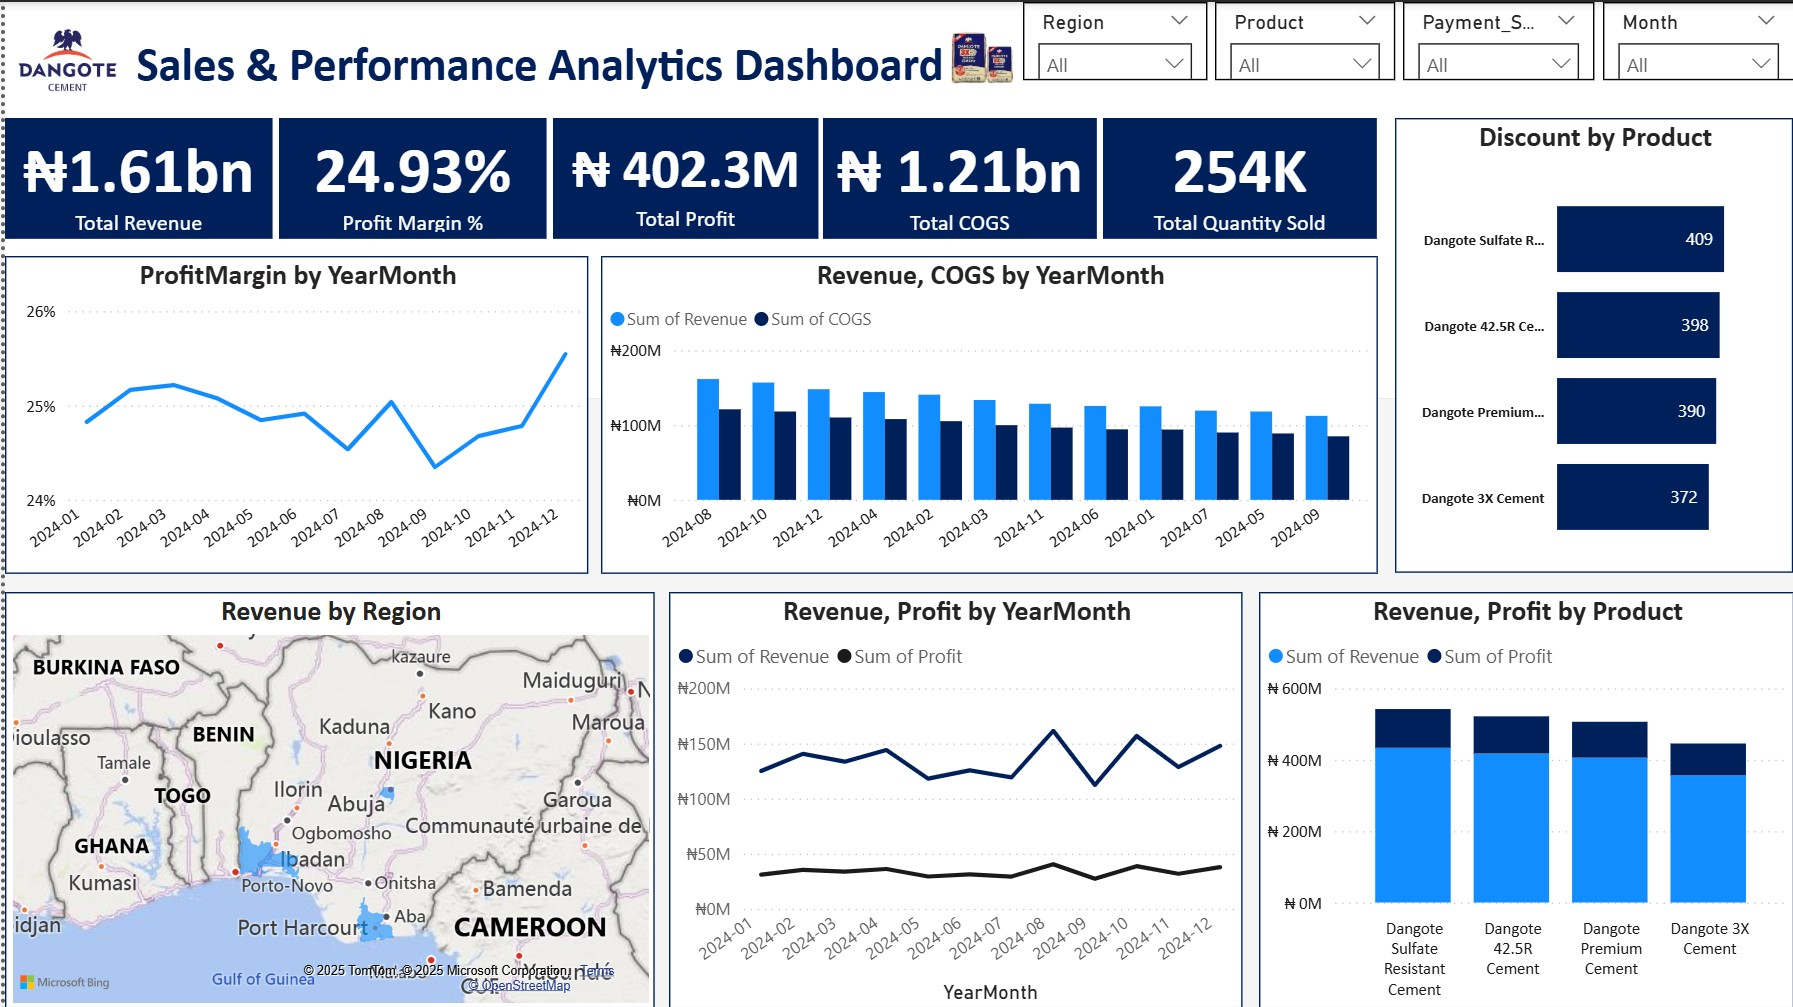

The page's visual inventory and layout, read from the dashboard file:
{"tool":"powerbi","page":{"name":"Page 1","canvas":[1280,720],"ordinal":0},"visuals":[{"type":"shape","box":[0,0,1280.2,283.7],"z":0},{"type":"lineChart","title":"Revenue, Profit by YearMonth","fields":{"Category":["DateTable.YearMonth"],"Y":["Sum(cleaned_sales.Revenue)","Sum(cleaned_sales.Profit)"]},"box":[475.2,421.9,410.4,298.1],"z":1000},{"type":"card","fields":{"Values":["cleaned_sales.Total Profit"]},"box":[391.7,83.5,190.1,86.4],"z":2000},{"type":"card","fields":{"Values":["cleaned_sales.Total Revenue"]},"box":[0,83.5,191.5,86.4],"z":3000},{"type":"card","fields":{"Values":["cleaned_sales.Total Quantity Sold"]},"box":[786.2,83.5,195.8,86.4],"z":4000},{"type":"card","fields":{"Values":["cleaned_sales.Total COGS"]},"box":[586.1,83.5,195.8,86.4],"z":5000},{"type":"card","fields":{"Values":["cleaned_sales.Profit Margin %"]},"box":[195.8,83.5,191.5,86.4],"z":6000},{"type":"filledMap","title":"Revenue by Region","fields":{"Category":["cleaned_sales.Region"]},"box":[0,421.9,465.1,298.1],"z":7000},{"type":"columnChart","title":"Revenue, Profit by Product","fields":{"Category":["cleaned_sales.Product"],"Y":["Sum(cleaned_sales.Revenue)","Sum(cleaned_sales.Profit)"]},"box":[897.1,421.9,383,298.1],"z":8000},{"type":"clusteredColumnChart","title":"Revenue, COGS by YearMonth","fields":{"Category":["DateTable.YearMonth"],"Y":["Sum(cleaned_sales.Revenue)","Sum(cleaned_sales.COGS)"]},"box":[426.2,181.4,555.8,227.5],"z":9000},{"type":"barChart","title":"Discount by Product","fields":{"Y":["Sum(cleaned_sales.Discount)"],"Category":["cleaned_sales.Product"]},"box":[995,83.5,285.1,325.4],"z":10000},{"type":"lineChart","title":"ProfitMargin by YearMonth","fields":{"Category":["DateTable.YearMonth"],"Y":["cleaned_sales.Profit Margin %"]},"box":[0,181.4,417.6,227.5],"z":11000},{"type":"actionButton","box":[89.5,19.7,591.5,45.5],"z":12000},{"type":"slicer","fields":{"Values":["cleaned_sales.Region"]},"box":[728,0,131.9,56.1],"z":13000},{"type":"slicer","fields":{"Values":["cleaned_sales.Product"]},"box":[866,0,128.9,56.1],"z":14000},{"type":"slicer","fields":{"Values":["cleaned_sales.Payment_Status"]},"box":[1000.8,0,136.8,56.2],"z":15000},{"type":"slicer","fields":{"Values":["DateTable.Month"]},"box":[1143.4,0,136.8,56.2],"z":16000},{"type":"image","box":[0,0,89.5,83.4],"z":17000},{"type":"image","box":[671.8,0,56.1,72.8],"z":18000}]}

Visuals, with their boxes in screenshot pixels (x1, y1, x2, y2), scaled from the page's 1280x720 canvas onto the 1793x1007 screenshot:
shape: BBox(0, 0, 1792, 397)
"Revenue, Profit by YearMonth" lineChart: BBox(666, 590, 1241, 1006)
card - cleaned_sales.Total Profit: BBox(549, 117, 815, 238)
card - cleaned_sales.Total Revenue: BBox(0, 117, 268, 238)
card - cleaned_sales.Total Quantity Sold: BBox(1101, 117, 1376, 238)
card - cleaned_sales.Total COGS: BBox(821, 117, 1095, 238)
card - cleaned_sales.Profit Margin %: BBox(274, 117, 543, 238)
"Revenue by Region" filledMap: BBox(0, 590, 652, 1006)
"Revenue, Profit by Product" columnChart: BBox(1257, 590, 1792, 1006)
"Revenue, COGS by YearMonth" clusteredColumnChart: BBox(597, 254, 1376, 572)
"Discount by Product" barChart: BBox(1394, 117, 1792, 572)
"ProfitMargin by YearMonth" lineChart: BBox(0, 254, 585, 572)
actionButton: BBox(125, 28, 954, 91)
slicer - cleaned_sales.Region: BBox(1020, 0, 1205, 78)
slicer - cleaned_sales.Product: BBox(1213, 0, 1394, 78)
slicer - cleaned_sales.Payment_Status: BBox(1402, 0, 1594, 79)
slicer - DateTable.Month: BBox(1602, 0, 1792, 79)
image: BBox(0, 0, 125, 117)
image: BBox(941, 0, 1020, 102)
